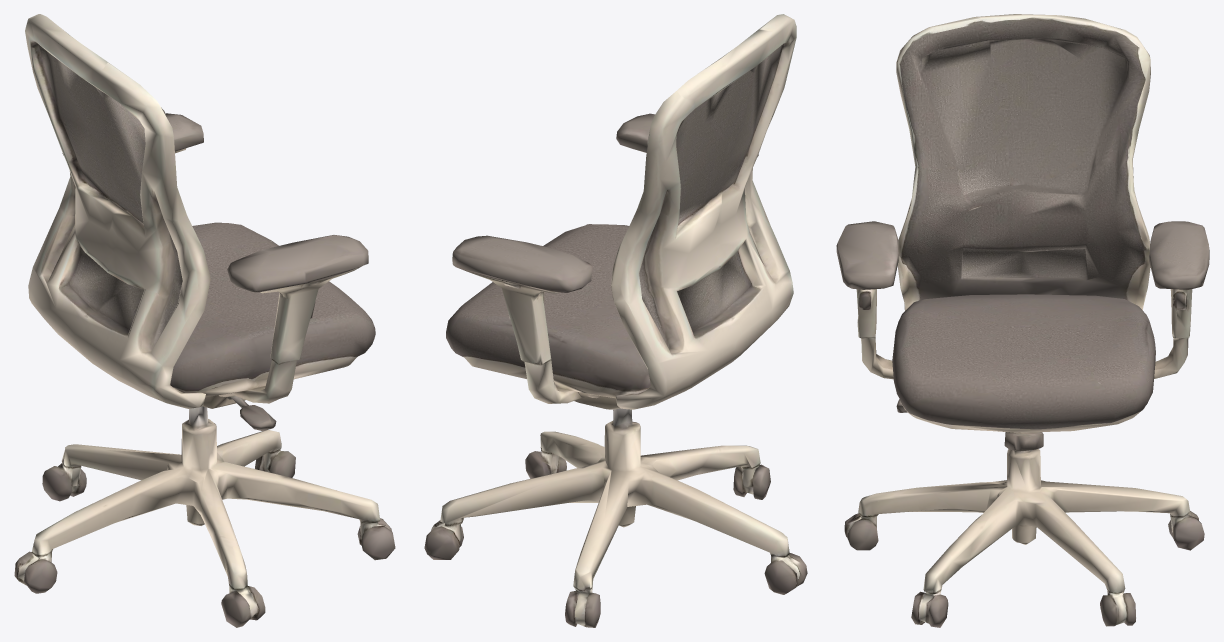
Rendered from cadeira.glb.
3 views of the same model, side by side, from view 1: azimuth 30°, elevation 25°; view 2: azimuth 150°, elevation 25°; view 3: azimuth 270°, elevation 25° (orthographic). The views are drawn at different scales.
Parts seen in each view (by area): view 1: tripo_node_87f4d8b3-f453-4028-bc56-1f0c07ea0ab2; view 2: tripo_node_87f4d8b3-f453-4028-bc56-1f0c07ea0ab2; view 3: tripo_node_87f4d8b3-f453-4028-bc56-1f0c07ea0ab2.
Part boxes in pixels (left/top/right/bottom): tripo_node_87f4d8b3-f453-4028-bc56-1f0c07ea0ab2: left=14, top=14, right=395, bottom=627; tripo_node_87f4d8b3-f453-4028-bc56-1f0c07ea0ab2: left=424, top=14, right=807, bottom=627; tripo_node_87f4d8b3-f453-4028-bc56-1f0c07ea0ab2: left=836, top=14, right=1209, bottom=627.
Bounding box in the file's own units: 0.6338 × 0.9993 × 0.678.
1 material, 1 textured.
